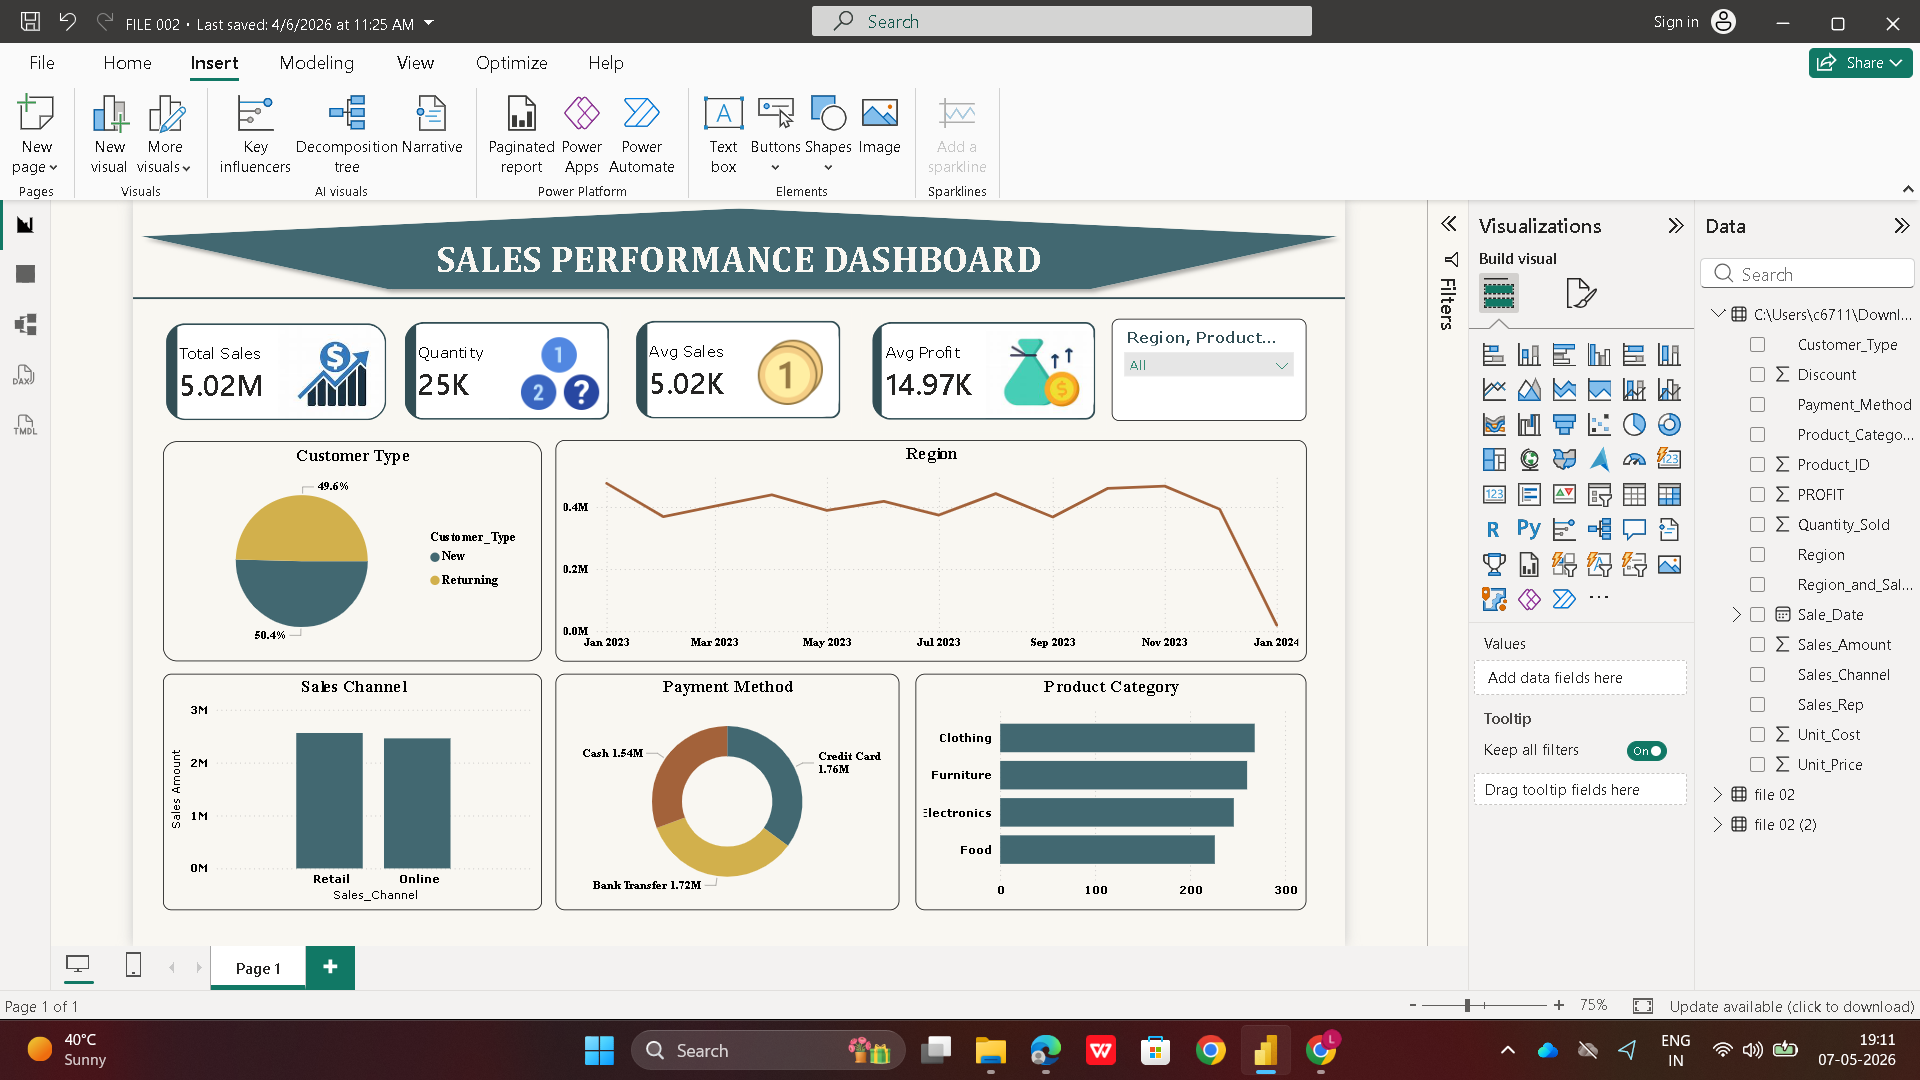

What the dashboard file says about the page in this screenshot:
{"tool":"powerbi","page":{"name":"Page 1","canvas":[1300,800],"ordinal":0},"visuals":[{"type":"cardVisual","title":"TOTAL SALES","fields":{"Data":["Sum(C:\\Users\\c6711\\Downloads\\file 02\\_sales_data csv.Sales_Amount)"]},"box":[18.8,115.3,270.8,138.1],"z":0},{"type":"cardVisual","title":"QUANTITY ","fields":{"Data":["Sum(C:\\Users\\c6711\\Downloads\\file 02\\_sales_data csv.Quantity_Sold)"]},"box":[274.8,113.9,253.4,139.4],"z":1000},{"type":"cardVisual","title":"AVG SALES","fields":{"Data":["Avg(C:\\Users\\c6711\\Downloads\\file 02\\_sales_data csv.Sales_Amount)"]},"box":[522.8,112.6,253.4,139.4],"z":2000},{"type":"barChart","title":" Product Category","fields":{"Category":["C:\\Users\\c6711\\Downloads\\file 02\\_sales_data csv.Product_Category"],"Y":["CountNonNull(C:\\Users\\c6711\\Downloads\\file 02\\_sales_data csv.Sale_Date)"]},"box":[839.1,508,419.6,253.4],"z":3000},{"type":"pieChart","title":"Customer Type","fields":{"Category":["C:\\Users\\c6711\\Downloads\\file 02\\_sales_data csv.Customer_Type"],"Y":["CountNonNull(C:\\Users\\c6711\\Downloads\\file 02\\_sales_data csv.Sales_Amount)"]},"box":[32.2,258.7,406.2,235.9],"z":4000},{"type":"donutChart","title":" Payment Method","fields":{"Category":["C:\\Users\\c6711\\Downloads\\file 02\\_sales_data csv.Payment_Method"],"Y":["Sum(C:\\Users\\c6711\\Downloads\\file 02\\_sales_data csv.Sales_Amount)"]},"box":[453.1,508,368.6,253.4],"z":5000},{"type":"columnChart","title":" Sales Channel","fields":{"Category":["C:\\Users\\c6711\\Downloads\\file 02\\_sales_data csv.Sales_Channel"],"Y":["Sum(C:\\Users\\c6711\\Downloads\\file 02\\_sales_data csv.Sales_Amount)"]},"box":[32.2,508,406.2,253.4],"z":6000},{"type":"cardVisual","title":"AVG PROFIT","fields":{"Data":["Min(C:\\Users\\c6711\\Downloads\\file 02\\_sales_data csv.PROFIT)"]},"box":[776.1,113.9,273.5,139.4],"z":7000},{"type":"lineChart","title":"Region","fields":{"Y":["Sum(C:\\Users\\c6711\\Downloads\\file 02\\_sales_data csv.Sales_Amount)"],"Category":["C:\\Users\\c6711\\Downloads\\file 02\\_sales_data csv.Sale_Date.Variation.Date Hierarchy.Year","C:\\Users\\c6711\\Downloads\\file 02\\_sales_data csv.Sale_Date.Variation.Date Hierarchy.Month"]},"box":[453.1,257.4,805.6,237.3],"z":8000},{"type":"slicer","fields":{"Values":["C:\\Users\\c6711\\Downloads\\file 02\\_sales_data csv.Region","C:\\Users\\c6711\\Downloads\\file 02\\_sales_data csv.Product_Category","C:\\Users\\c6711\\Downloads\\file 02\\_sales_data csv.Sale_Date"]},"box":[1049.6,127.3,209.1,109.9],"z":9000},{"type":"shape","box":[0,0,1300.3,104.6],"z":10000},{"type":"shape","box":[0,46.9,1300.3,116.6],"z":11000}]}

Visuals, with their boxes on the page's 1300x800 design canvas (x1, y1, x2, y2). These are canvas units, not pixel positions in the 1920x1080 screenshot, which may show the page scaled, cropped or inside an application window:
"TOTAL SALES" cardVisual: box=[19, 115, 290, 253]
"QUANTITY " cardVisual: box=[275, 114, 528, 253]
"AVG SALES" cardVisual: box=[523, 113, 776, 252]
" Product Category" barChart: box=[839, 508, 1259, 761]
"Customer Type" pieChart: box=[32, 259, 438, 495]
" Payment Method" donutChart: box=[453, 508, 822, 761]
" Sales Channel" columnChart: box=[32, 508, 438, 761]
"AVG PROFIT" cardVisual: box=[776, 114, 1050, 253]
"Region" lineChart: box=[453, 257, 1259, 495]
slicer - C:\Users\c6711\Downloads\file 02\_sales_data csv.Region x C:\Users\c6711\Downloads\file 02\_sales_data csv.Product_Category: box=[1050, 127, 1259, 237]
shape: box=[0, 0, 1300, 105]
shape: box=[0, 47, 1300, 164]
